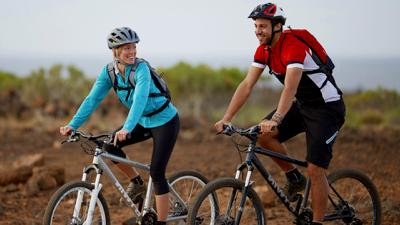With Helmet: (241, 2, 294, 47), (103, 19, 143, 74)
